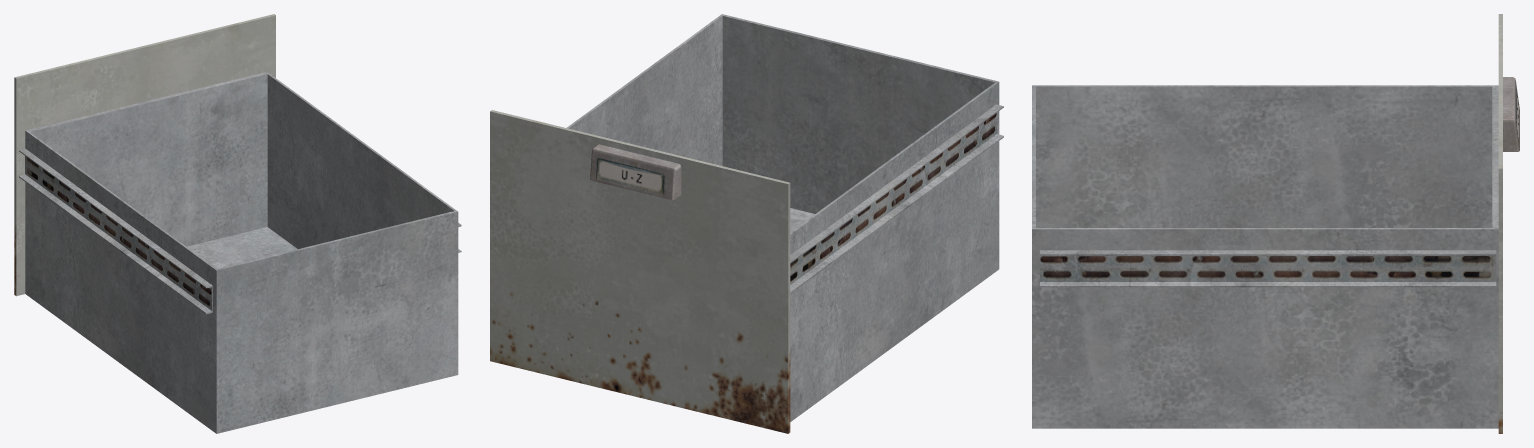
File: FileCabinet_Drawer_5.fbx
3 renders of one model, left to right at view 1: azimuth 30°, elevation 25°; view 2: azimuth 150°, elevation 25°; view 3: azimuth 270°, elevation 25°, orthographic. The views are drawn at different scales.
Visible parts, largest first — view 1: FileCabinet_Drawer_5; view 2: FileCabinet_Drawer_5; view 3: FileCabinet_Drawer_5.
Part boxes in pixels (left/top/right/bottom): FileCabinet_Drawer_5: left=14, top=14, right=461, bottom=433; FileCabinet_Drawer_5: left=490, top=14, right=1003, bottom=433; FileCabinet_Drawer_5: left=1032, top=14, right=1519, bottom=433.
Bounding box in the file's own units: 0.4858 × 0.3886 × 0.6475.
